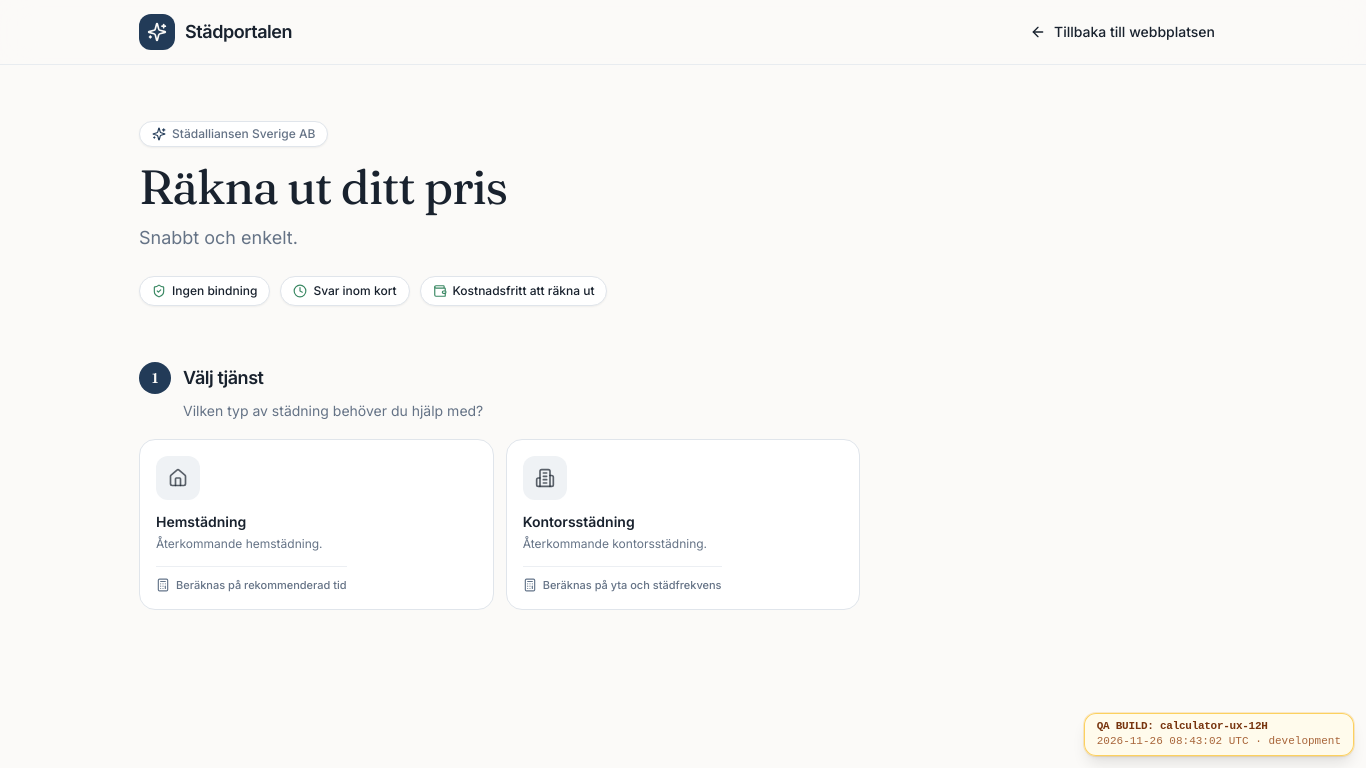
it: PriceCalculator — right-side visual panel (Slice 9B) › renders exactly ONE primary 'Uppskattat pris' card and no second blue box
What coordinates should you click on to do the following:
click the button "Hemstädning"
I would click on:
 (178, 478)
Its box is [139,439,494,610].
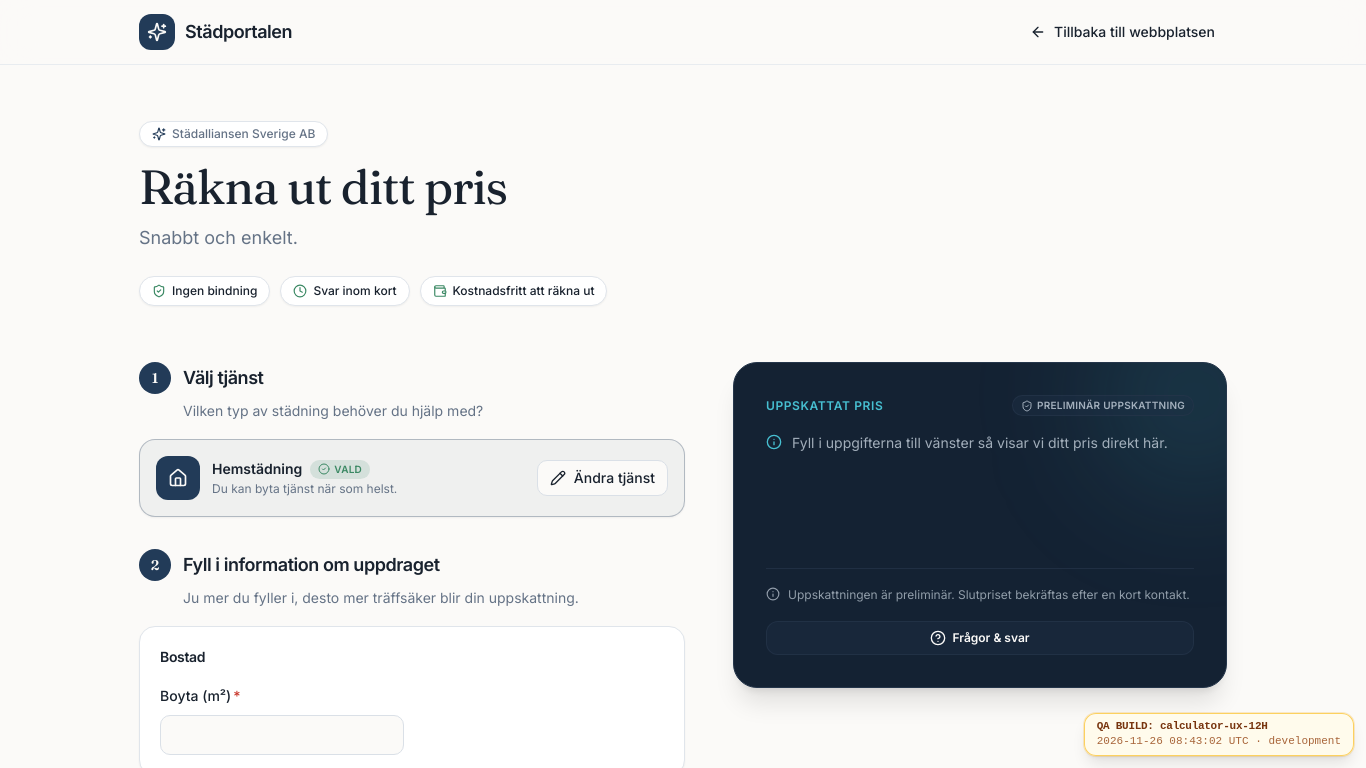
Expected: the text "Uppskattat pris" is shown once, [766,398,883,414]
